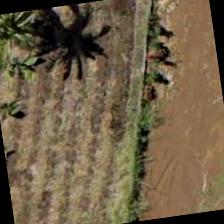Kelapa_Sawit: (0, 7, 60, 75)
